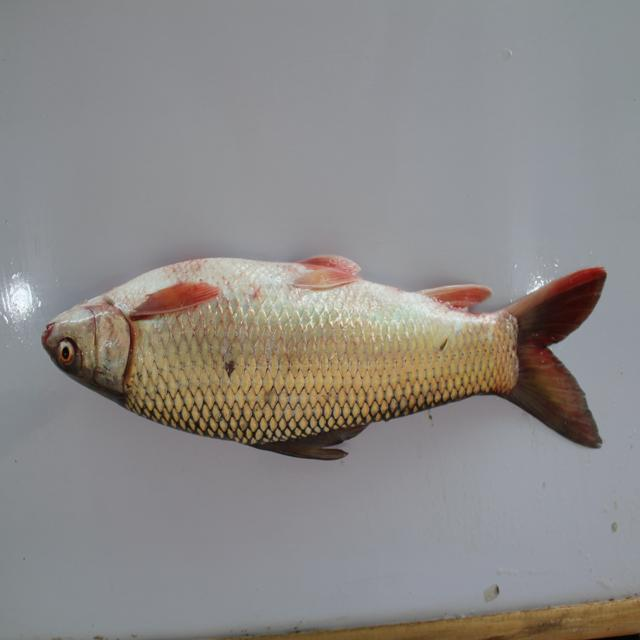Mori: (33, 247, 611, 479)
